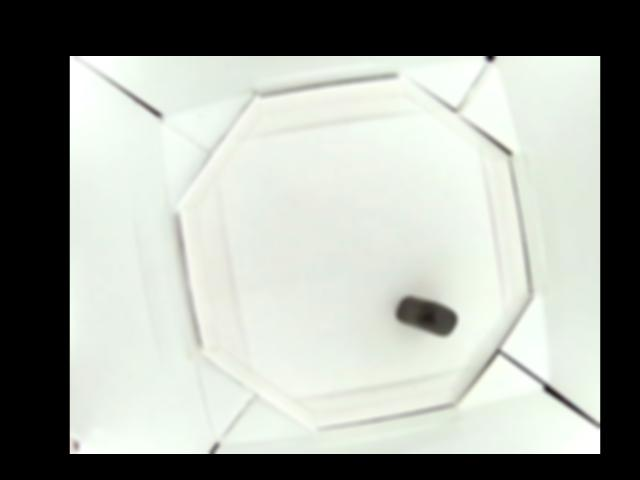Pebble: (398, 294, 457, 339)
